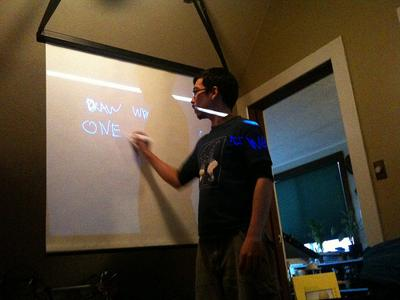person: (131, 68, 275, 298)
